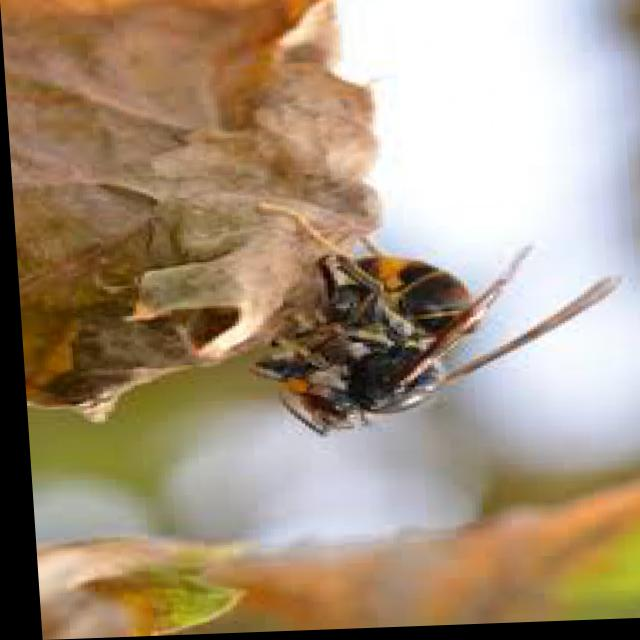Vespa Velutina: (248, 189, 631, 432)
